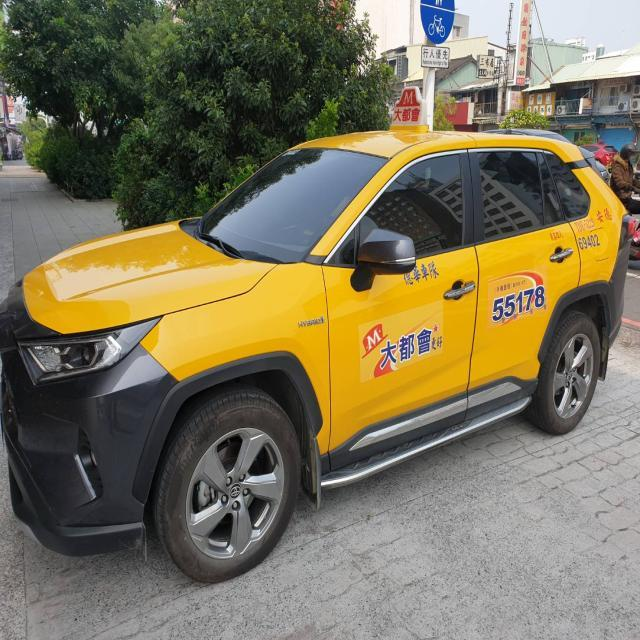taxi: (1, 71, 640, 587)
